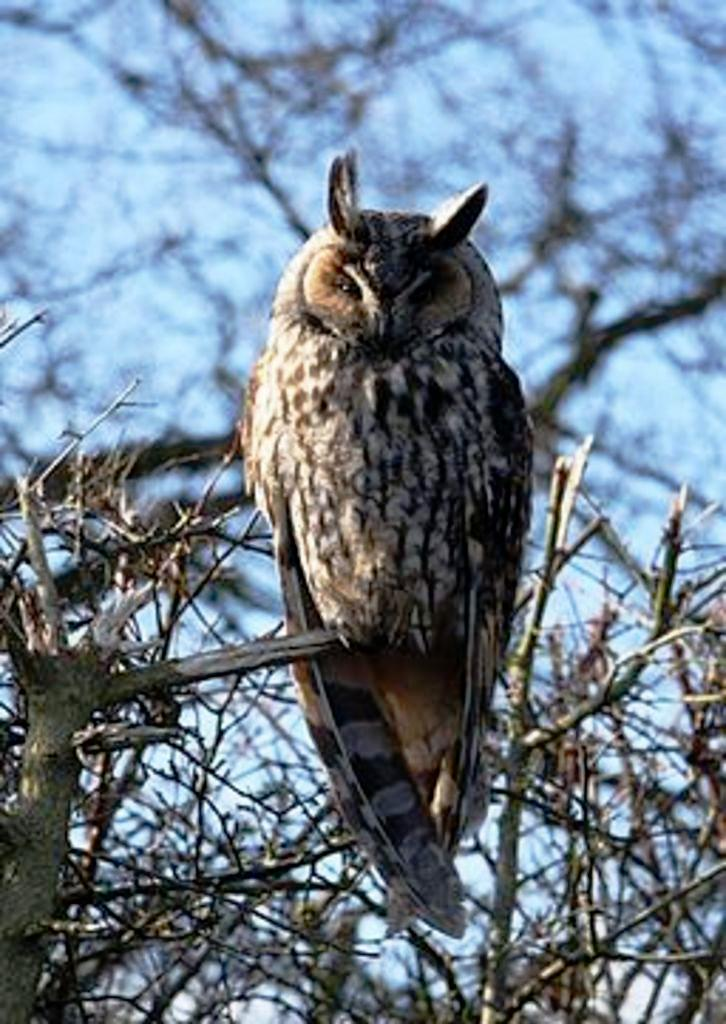Owl: (238, 142, 536, 948)
